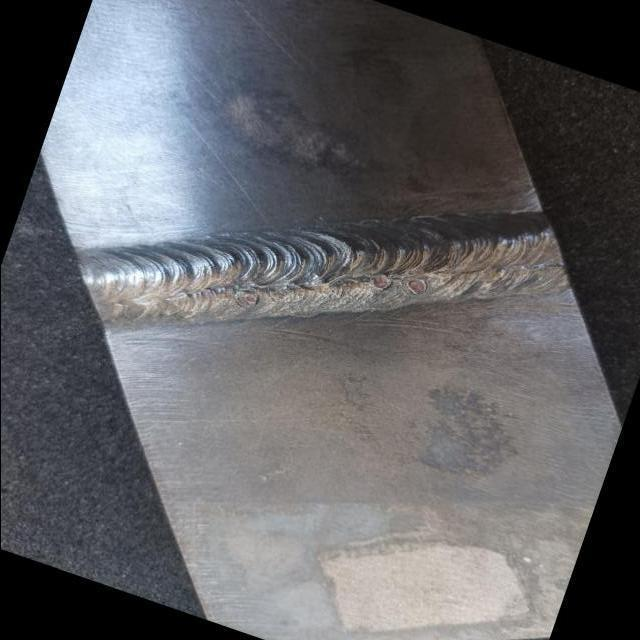defect: (402, 275, 429, 297), (367, 272, 391, 293), (233, 290, 257, 309), (269, 285, 293, 302), (323, 285, 343, 299)
